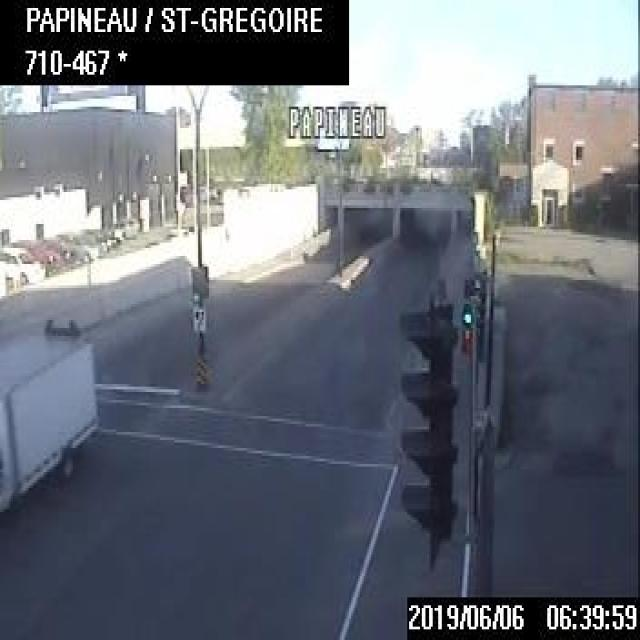vehicle: (0, 312, 100, 523), (12, 238, 63, 277), (0, 241, 45, 283)
